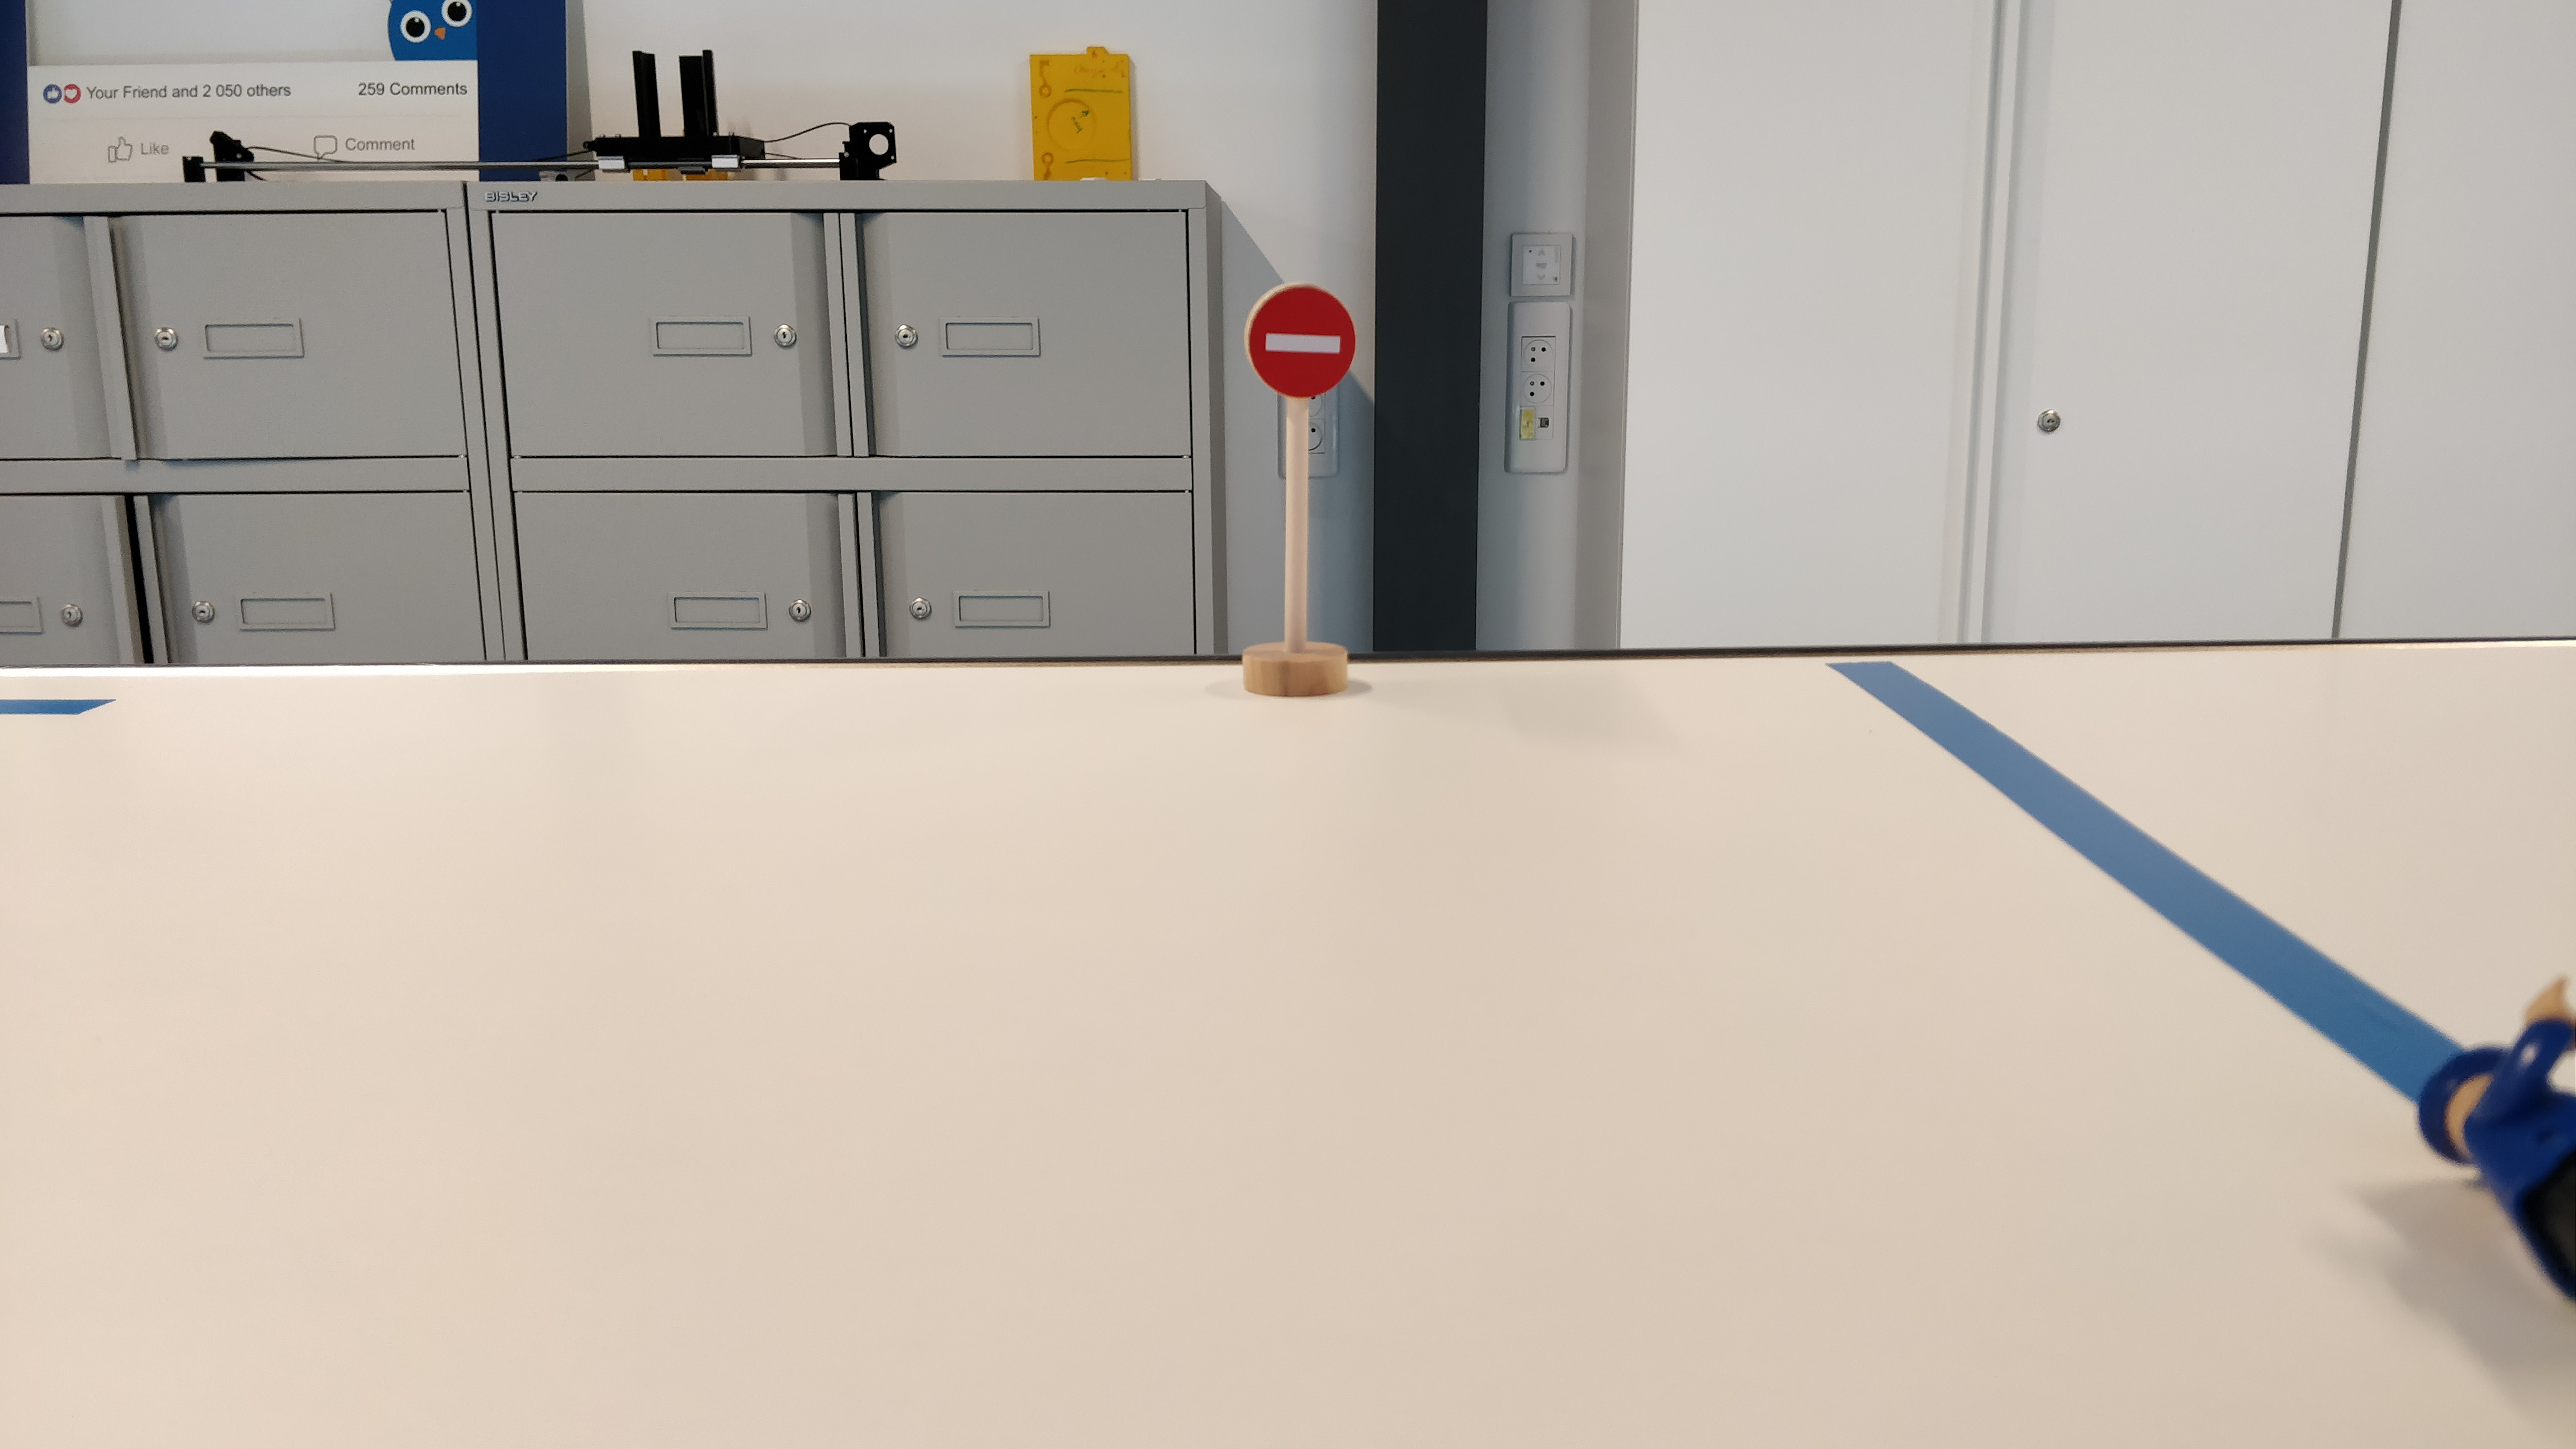Prohibition Sign: (1245, 278, 1356, 404)
